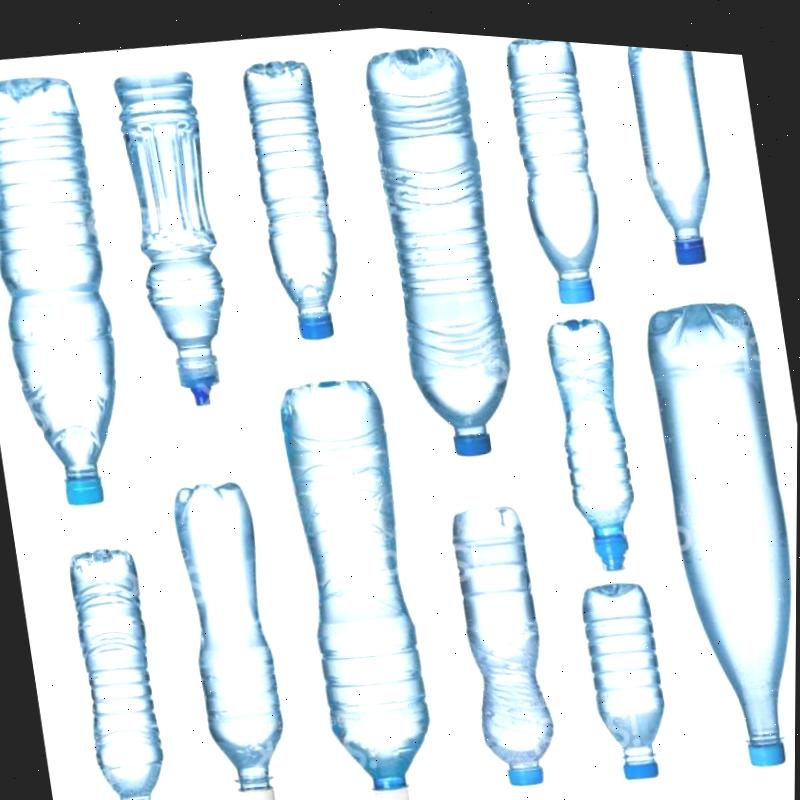botella: (272, 364, 448, 800), (642, 278, 799, 764), (359, 30, 527, 455), (0, 64, 141, 514), (103, 59, 245, 412), (164, 468, 300, 800), (444, 490, 566, 787), (236, 50, 352, 341), (495, 29, 614, 303), (63, 537, 177, 800), (541, 303, 648, 568), (622, 36, 721, 260), (574, 568, 678, 777)
